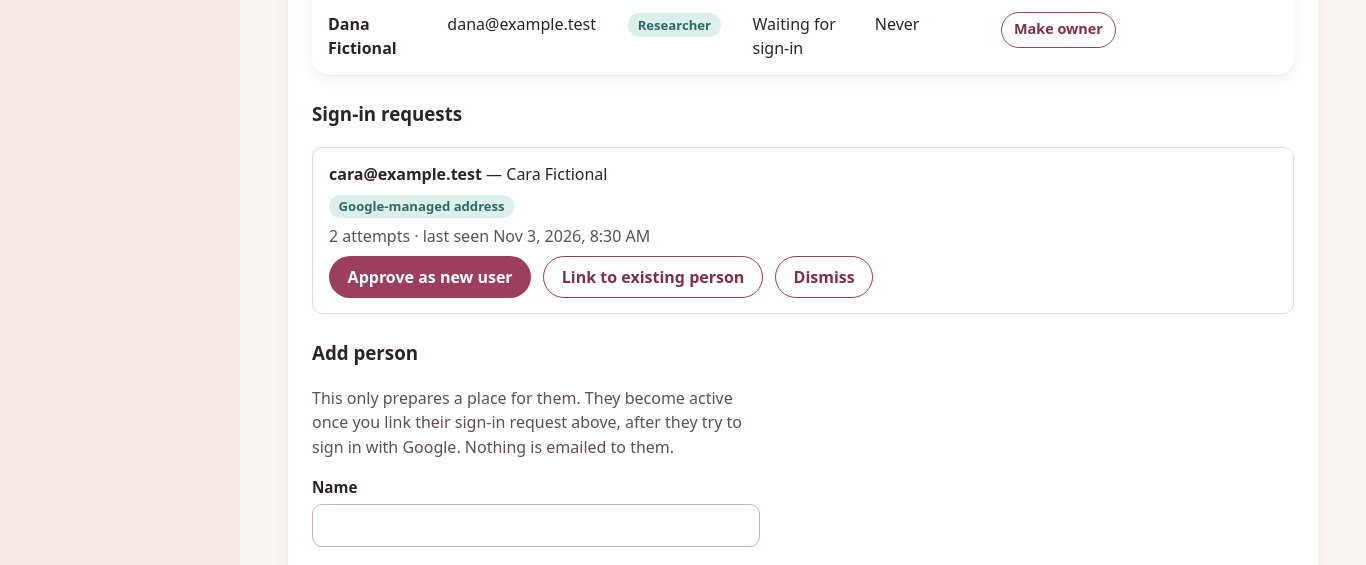
Test case: Users administration › explains identity-in-use
The width and height of the screenshot is (1366, 565).
(page scrolled)
What coordinates should you click on to do the following:
click the button with aria-label "Approve cara@example.test"
I would click on:
 (430, 277)
Its box is [329, 256, 531, 298].
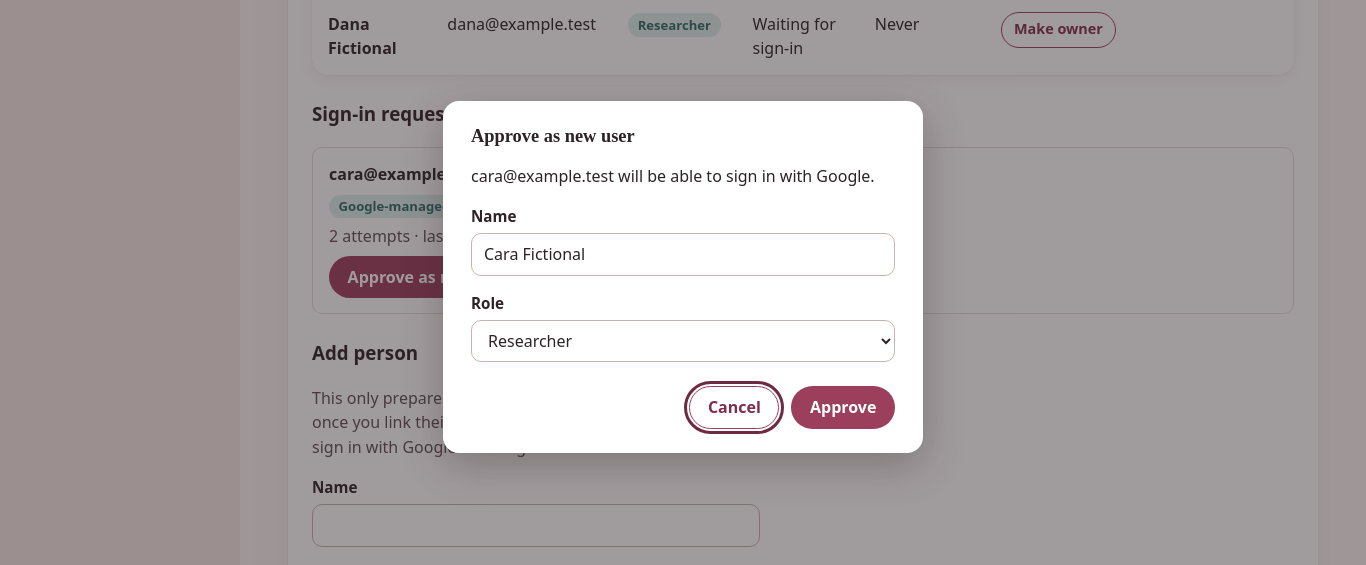
What coordinates should you click on to do the following:
click the button "Approve"
I would click on:
 (843, 408)
Its box is [791, 386, 895, 429].
(page scrolled)
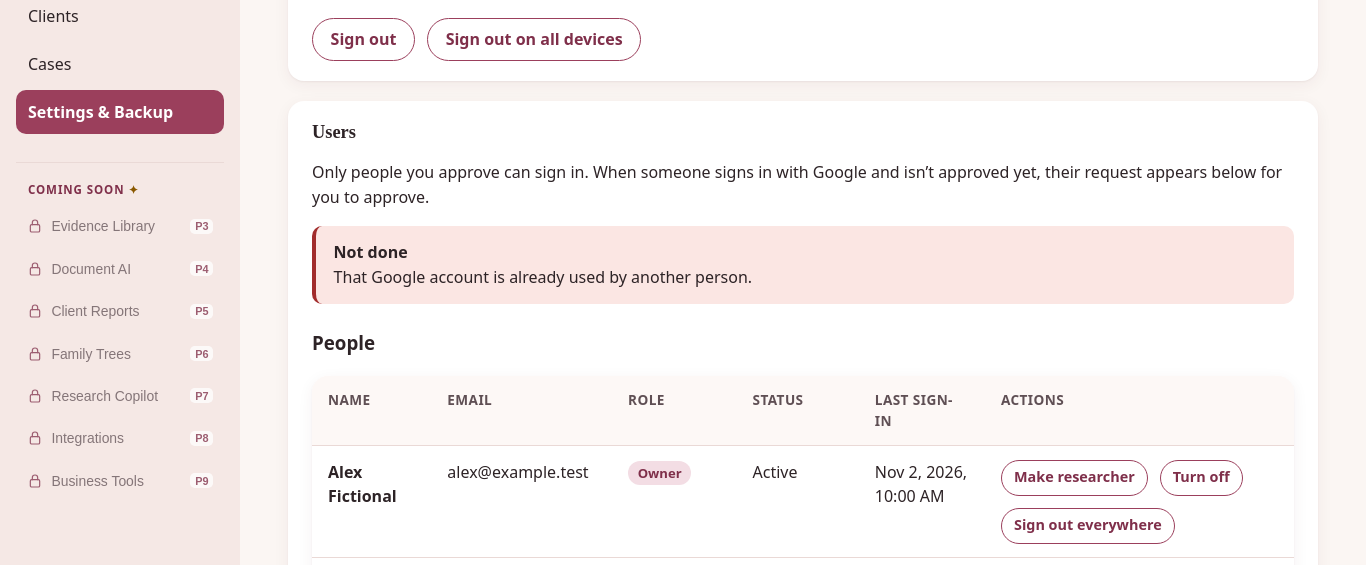
Expected: the text "That Google account is already used by another person." is shown, [334, 266, 752, 288]
